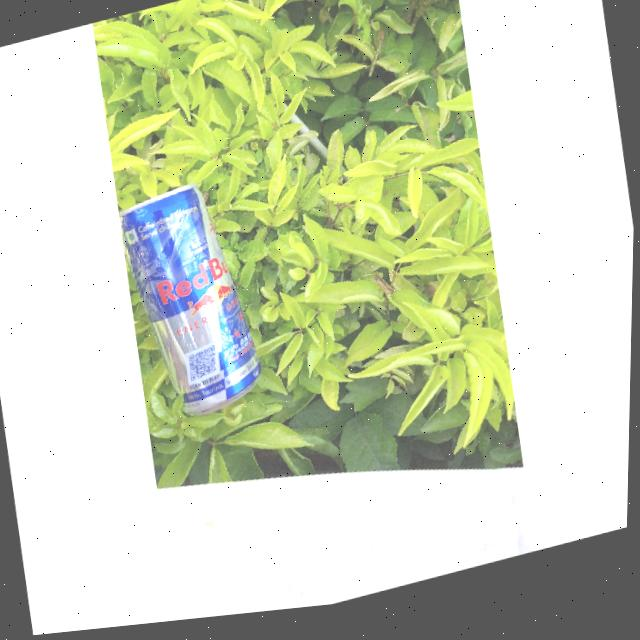Redbull DanceYourStyle: (114, 174, 270, 434)
